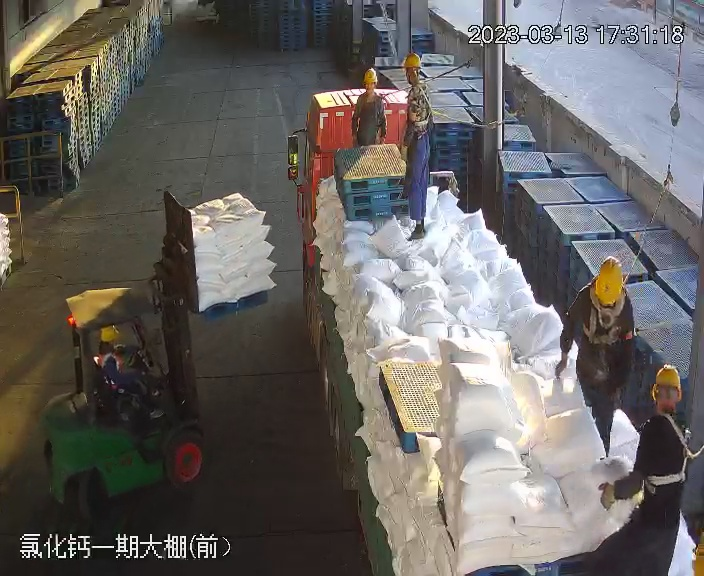belt: (643, 410, 700, 485), (583, 289, 632, 345), (405, 75, 436, 123), (354, 86, 387, 126)
head: (638, 363, 692, 452), (570, 258, 636, 323), (93, 325, 129, 372), (354, 67, 388, 114), (400, 54, 433, 97)
helmet: (592, 258, 625, 304), (652, 364, 682, 396), (99, 325, 123, 344), (401, 53, 422, 68), (362, 68, 378, 84)
people: (597, 366, 694, 573), (557, 261, 641, 459), (398, 54, 437, 241), (350, 72, 389, 152)
truck: (283, 74, 701, 576)
